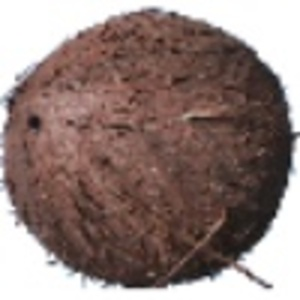coco: (1, 7, 298, 289)
